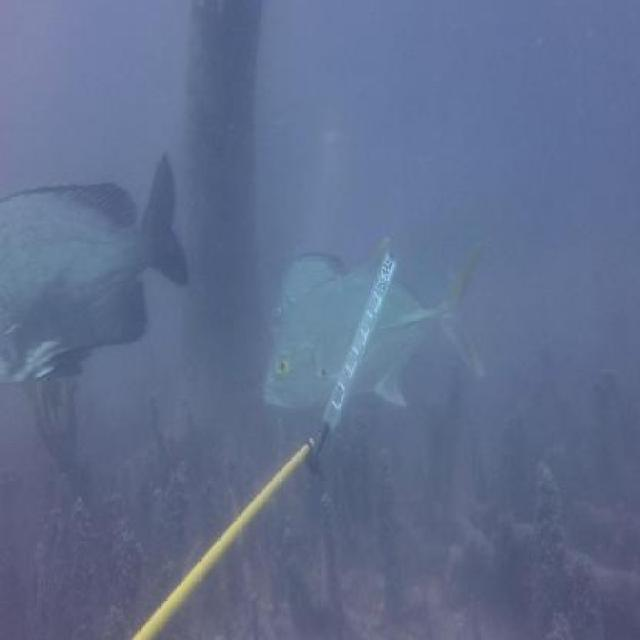Caranx: (260, 226, 489, 417)
acanthopagrus_palmaris: (0, 148, 191, 387), (268, 248, 344, 337)
